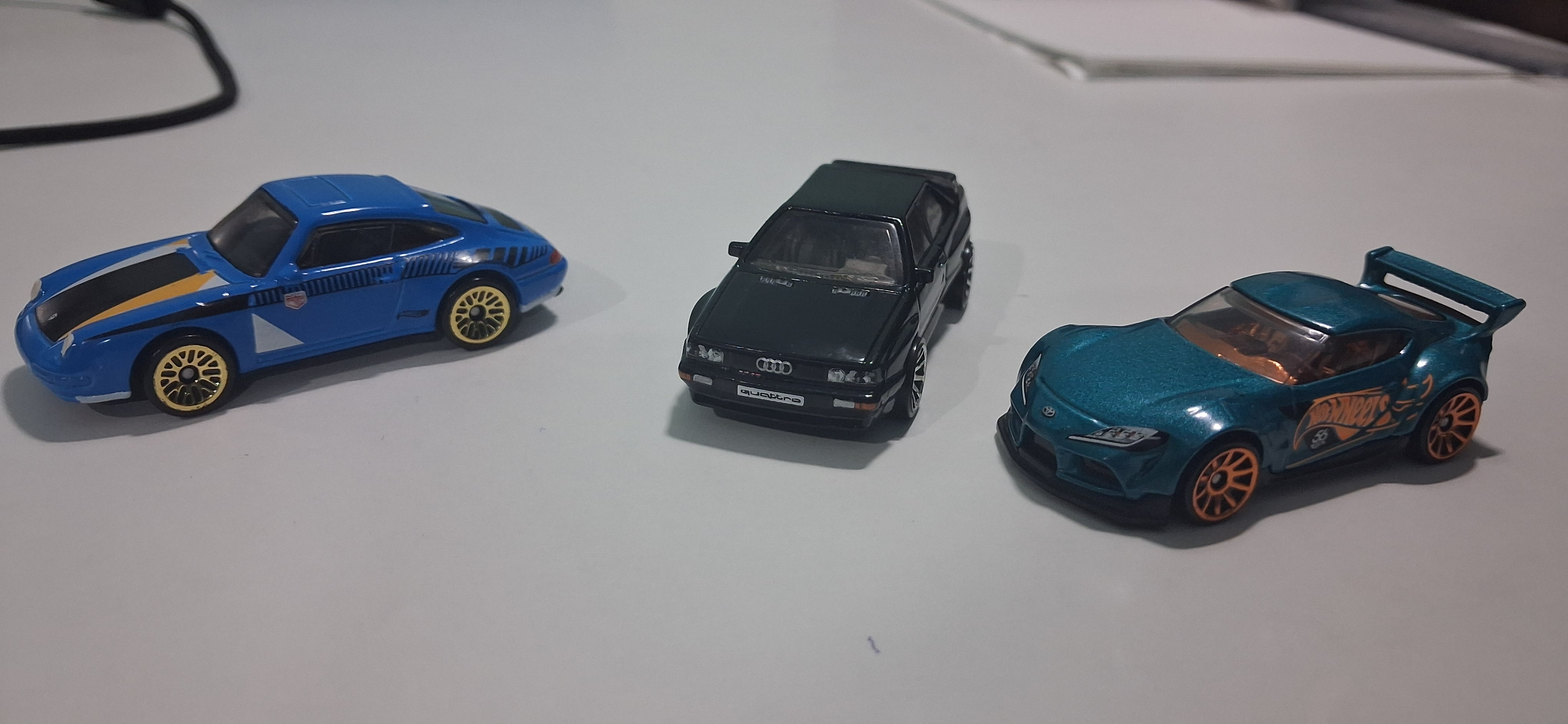Audi_Quattro: (668, 113, 1009, 478)
Porsche_Carrera: (15, 112, 587, 495)
Toyota_GR_Supra: (958, 229, 1536, 561)
